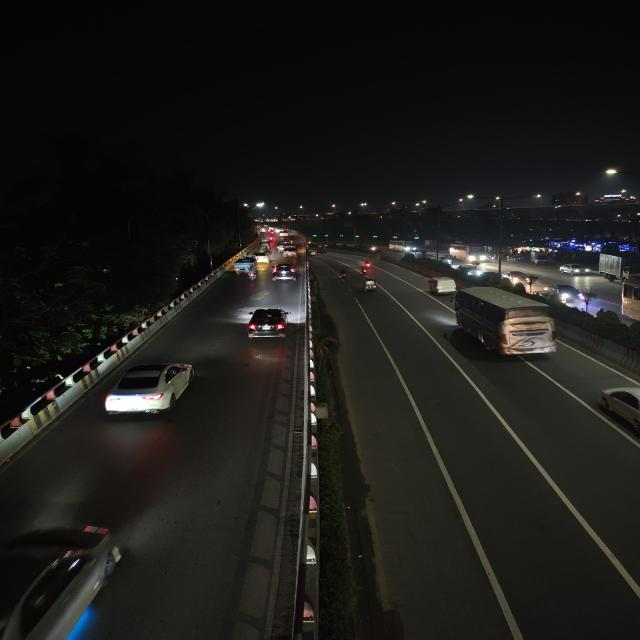bus: (451, 285, 560, 361), (453, 244, 485, 264), (388, 240, 407, 252)
car: (0, 519, 128, 639), (102, 359, 198, 423), (596, 384, 640, 442), (243, 307, 292, 341), (550, 283, 584, 305), (269, 262, 298, 282), (559, 263, 591, 277), (278, 243, 298, 255), (280, 246, 299, 258), (255, 250, 272, 262)
cng: (361, 276, 379, 294)
motorcycle: (360, 276, 379, 294), (245, 269, 259, 283), (357, 265, 368, 276), (338, 269, 349, 279), (362, 259, 373, 268), (368, 247, 381, 254)
pickup_van: (232, 257, 258, 273)
truck: (598, 252, 640, 284), (425, 274, 457, 296), (533, 254, 553, 266)
